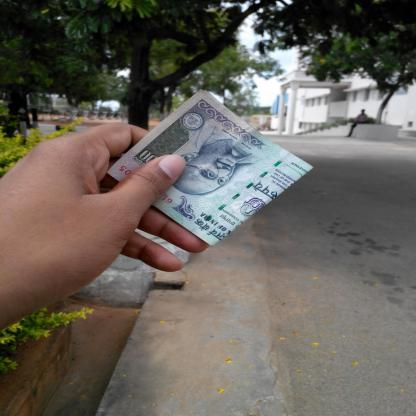Old100Front: (106, 89, 314, 247)
